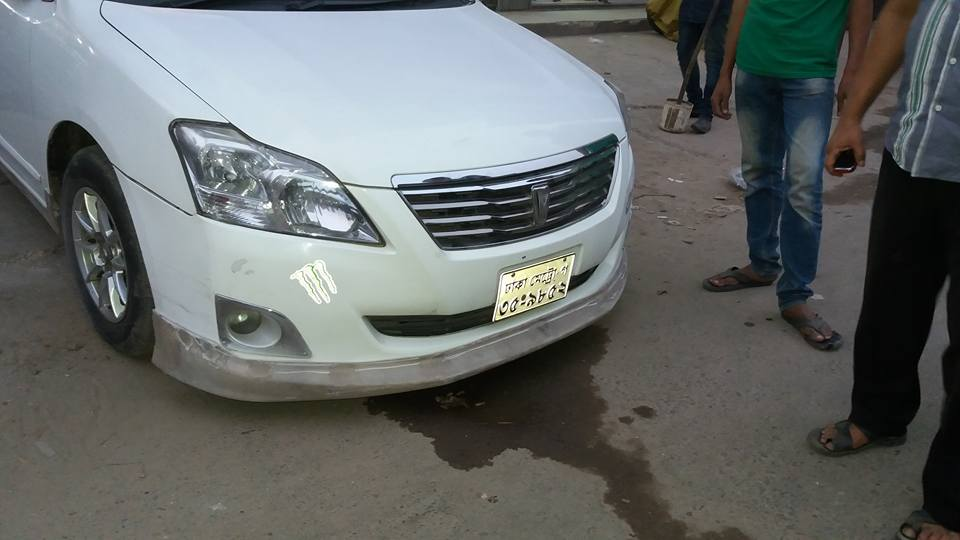registration_plate: (492, 250, 577, 325)
